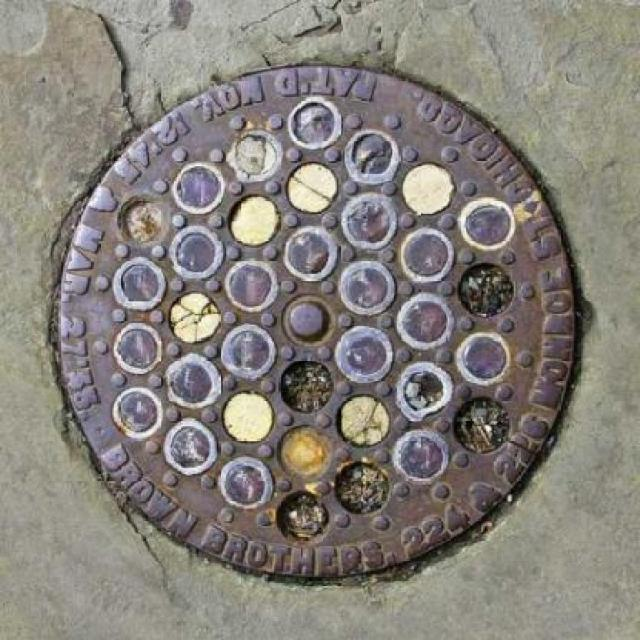Manhole: (39, 54, 584, 602)
